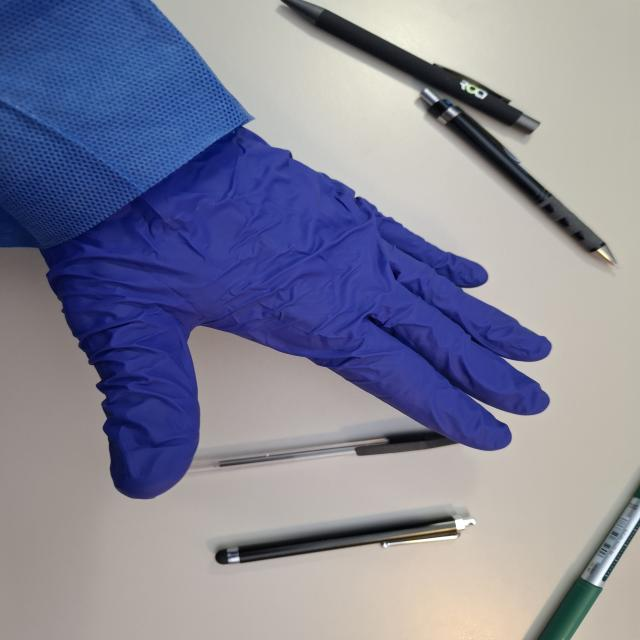glove_on: (39, 116, 554, 501)
